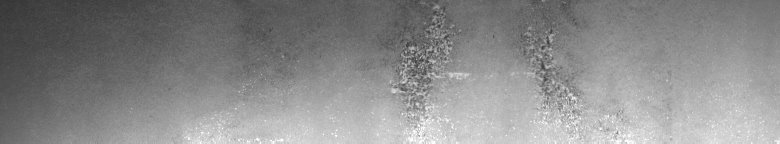hc: (384, 4, 623, 136)
